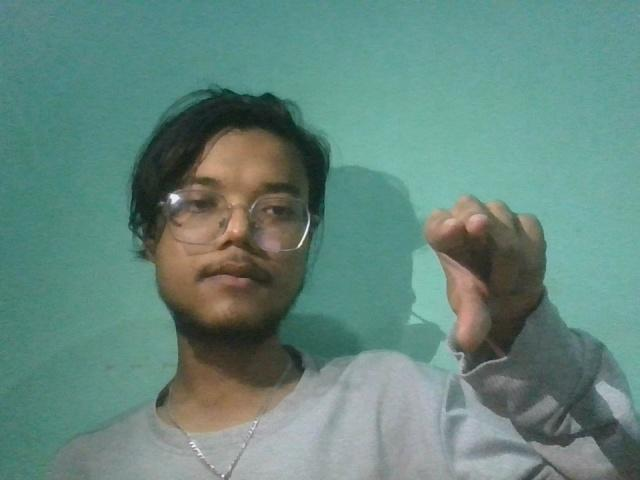No: (401, 182, 572, 370)
